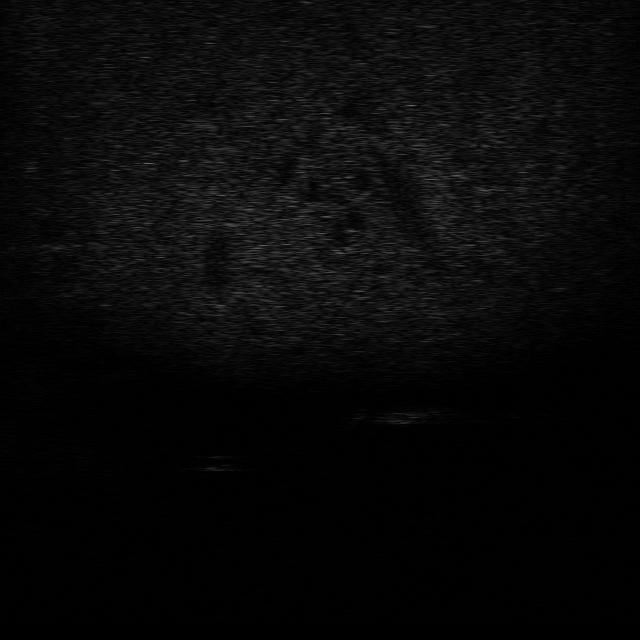ball: (190, 449, 244, 475)
human body: (348, 399, 450, 428)
